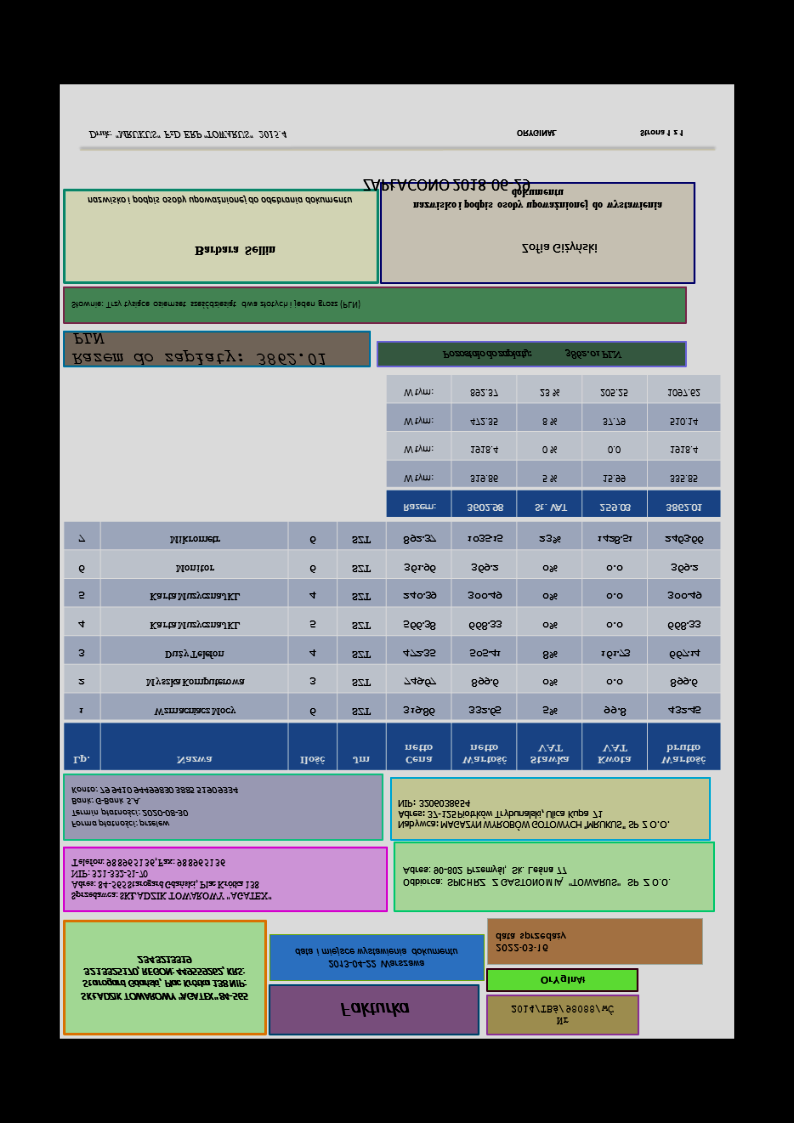Table: (62, 521, 721, 771), (385, 375, 721, 519)
TextBox: (68, 856, 272, 903), (395, 797, 669, 831), (77, 952, 249, 1004), (71, 332, 326, 366), (69, 783, 241, 831), (401, 864, 674, 889), (411, 188, 664, 212), (292, 945, 460, 971), (85, 193, 353, 207), (70, 298, 362, 310), (360, 176, 531, 192), (508, 1003, 616, 1028), (88, 128, 289, 141), (440, 348, 625, 361), (493, 929, 569, 955), (515, 128, 685, 139), (338, 1001, 411, 1018), (193, 244, 275, 258), (519, 241, 599, 255), (538, 973, 588, 987)
